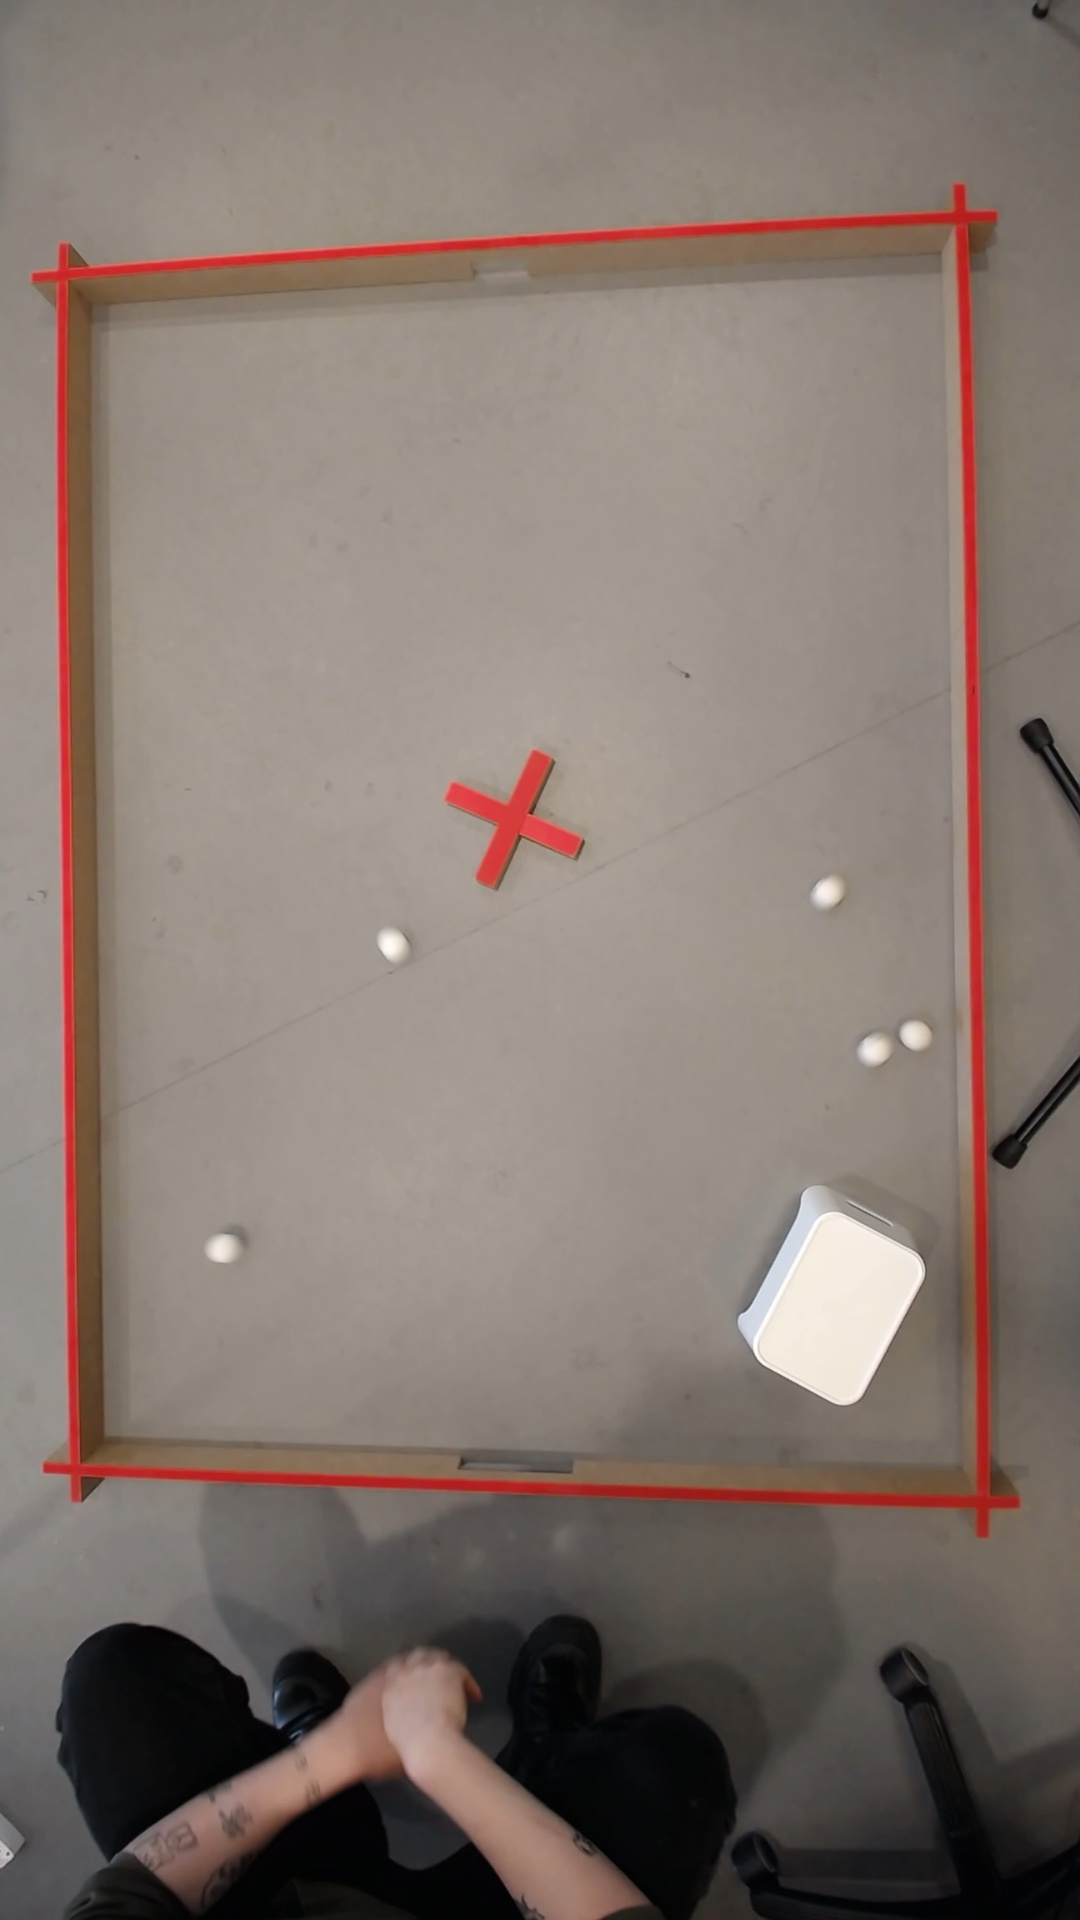balls: (723, 1188, 934, 1412), (372, 924, 409, 961), (856, 1033, 890, 1067), (897, 1018, 930, 1051), (207, 1236, 232, 1261)
car: (807, 876, 841, 909)
